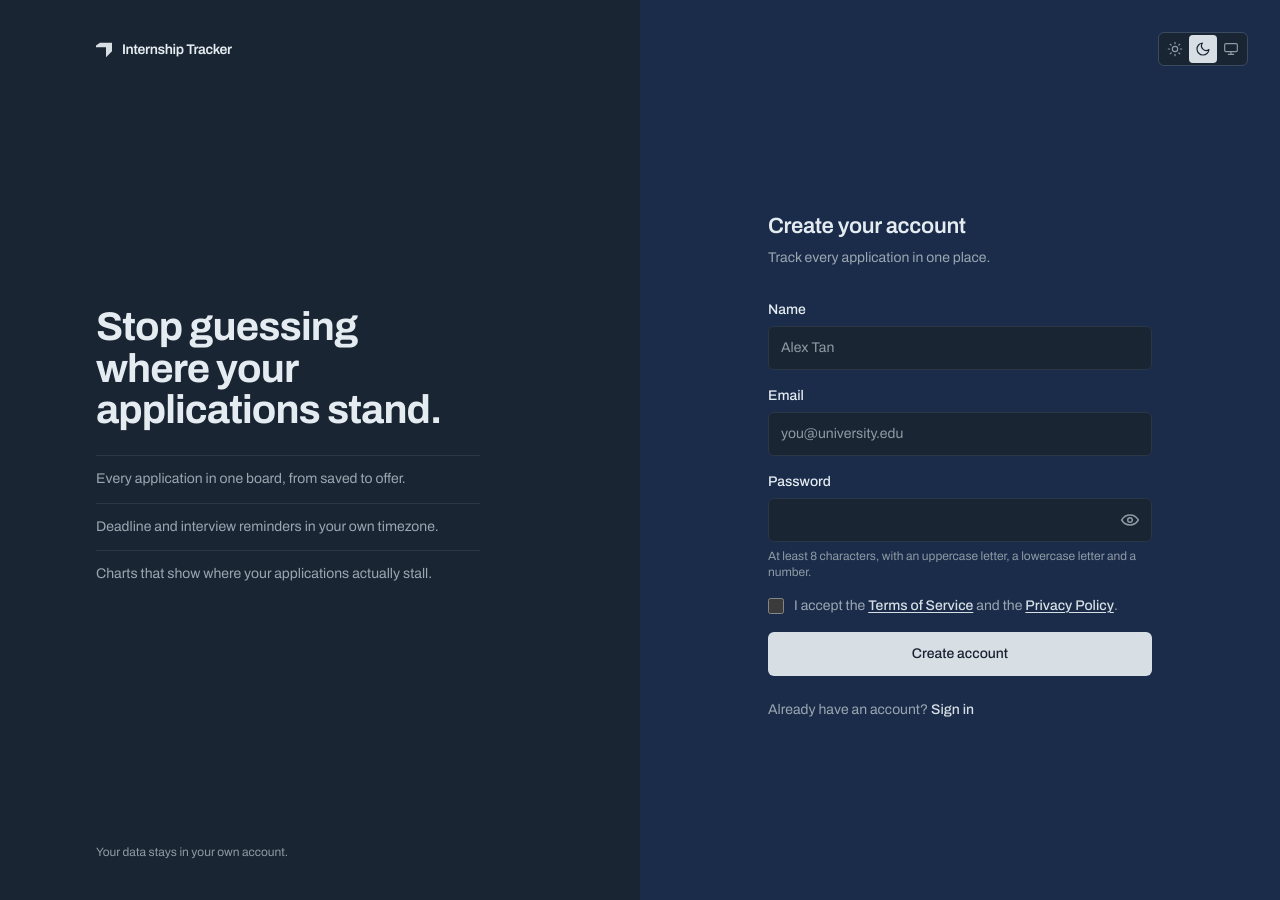
Test: RegisterForm › requires the terms to be accepted
The width and height of the screenshot is (1280, 900).
Check: the button "Create account" is shown, box [768,632,1152,676]
Type "Ada Lovelace" into the field labelled "Name".
click(960, 348); type("Ada Lovelace")  # box [768,326,1152,370]
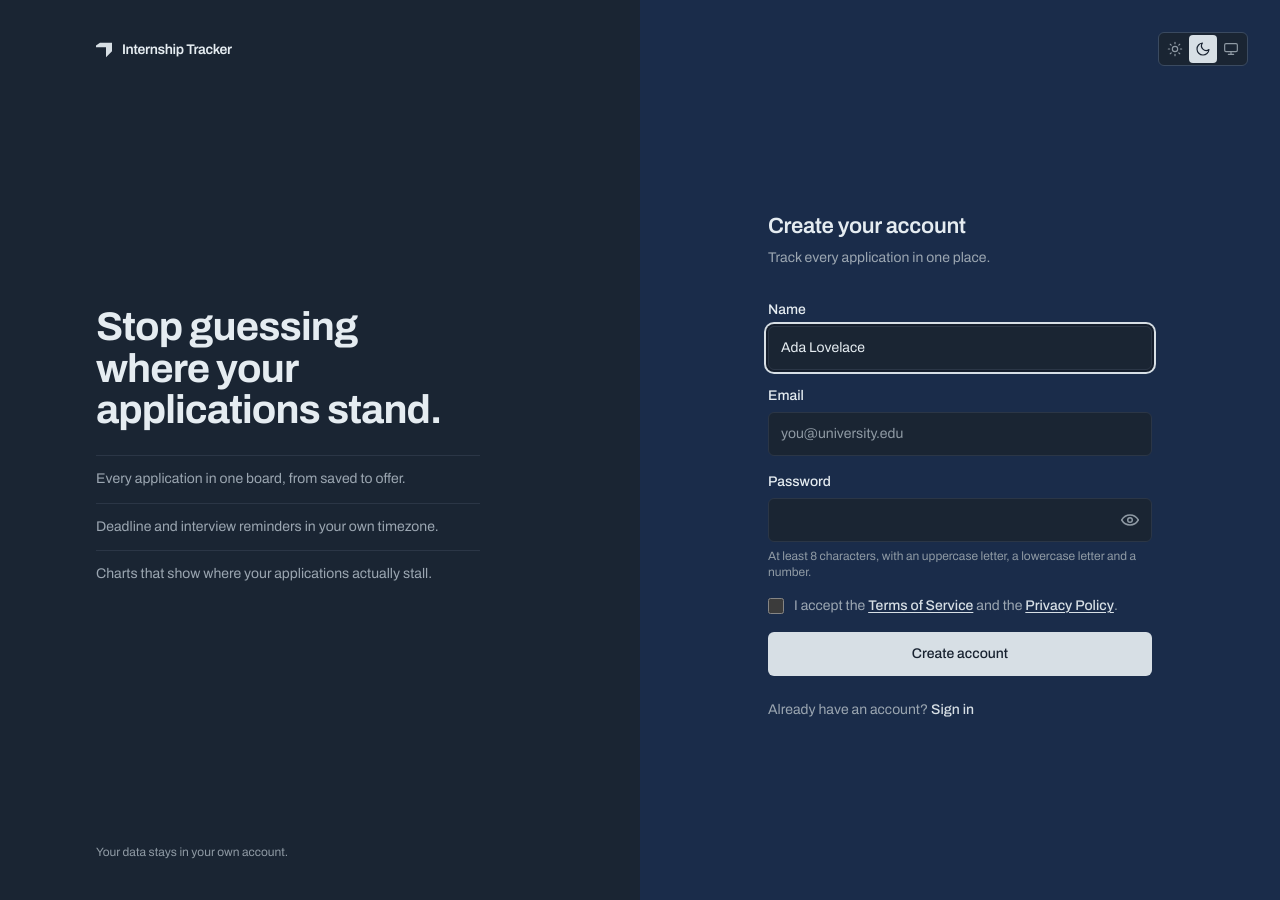
Type "ada@example.test" into the field labelled "Email".
click(960, 434); type("ada@example.test")  # box [768,412,1152,456]
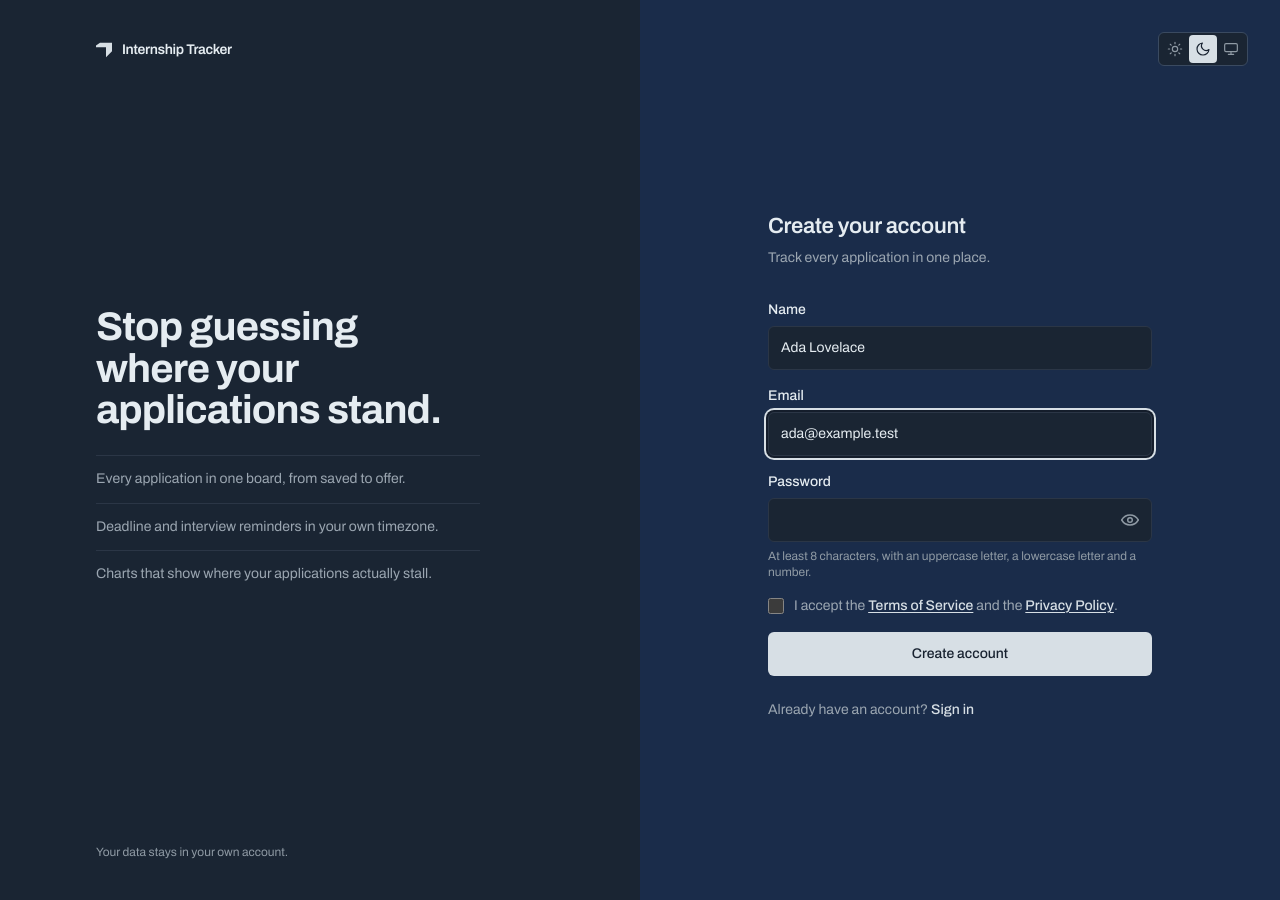
Type "Password1" into the password field labelled "Password".
click(960, 520); type("Password1")  # box [768,498,1152,542]
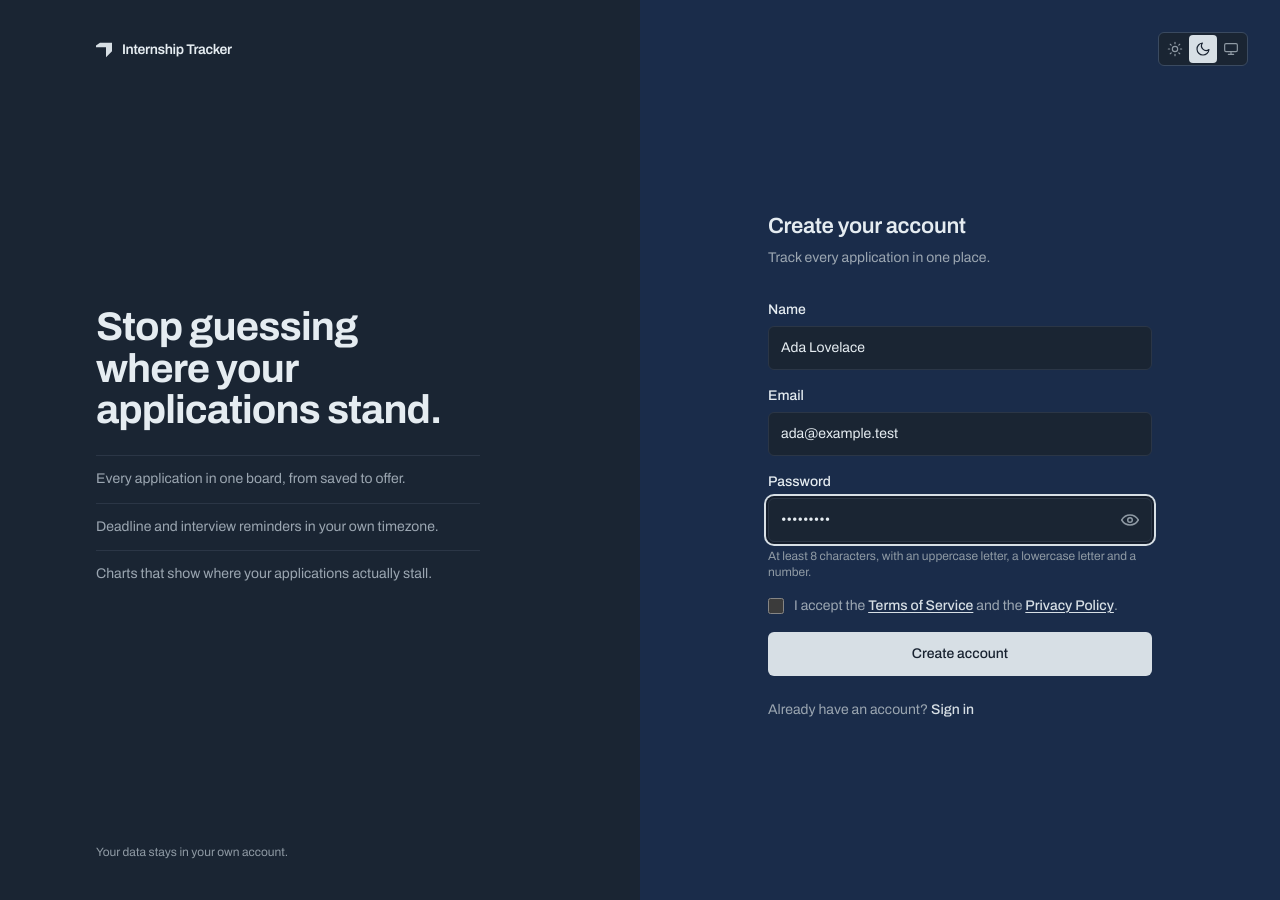
Click the button "Create account".
click(960, 654)  # box [768,632,1152,676]
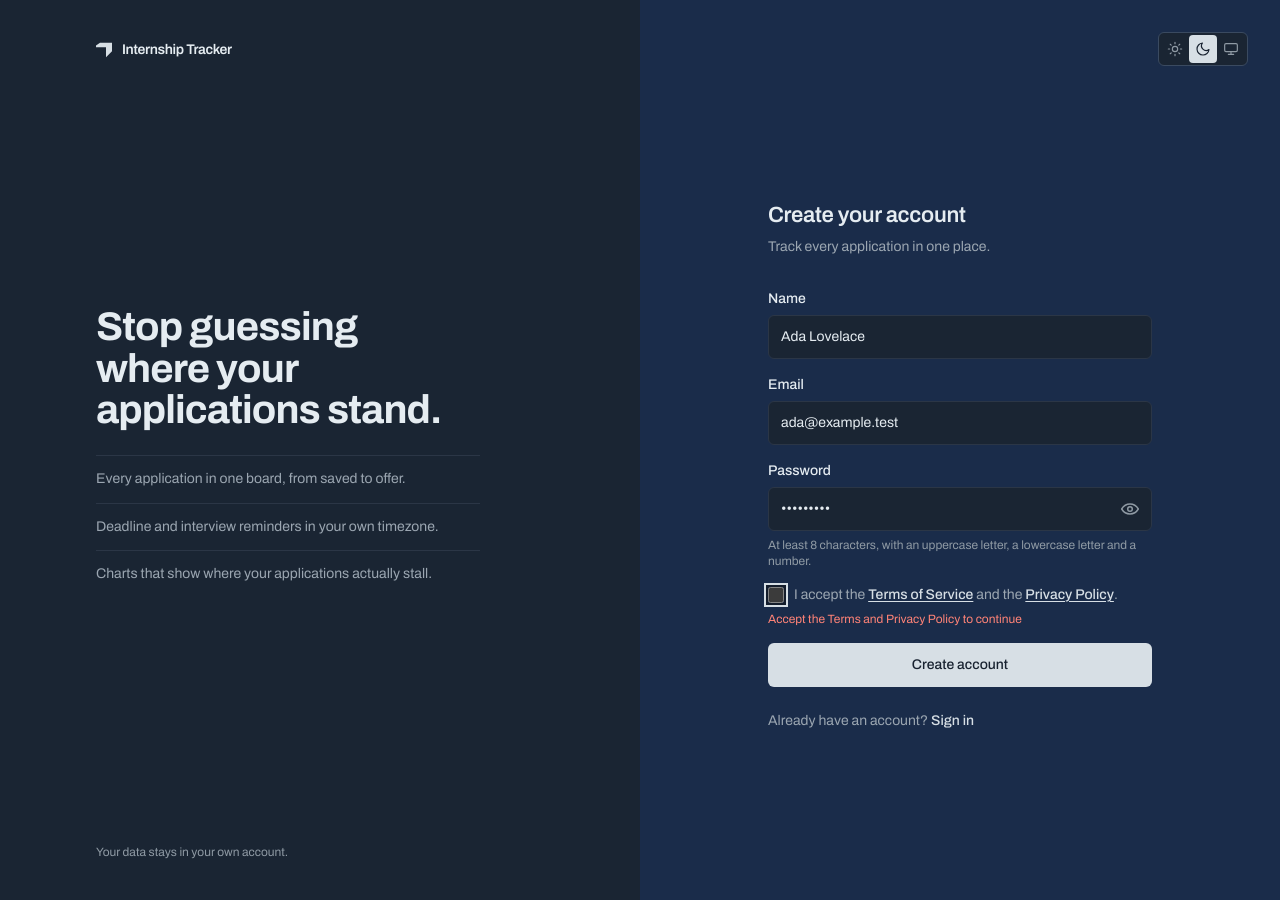
Check: the text "Accept the Terms and Privacy Policy to continue" is shown, box [768,612,1022,626]
